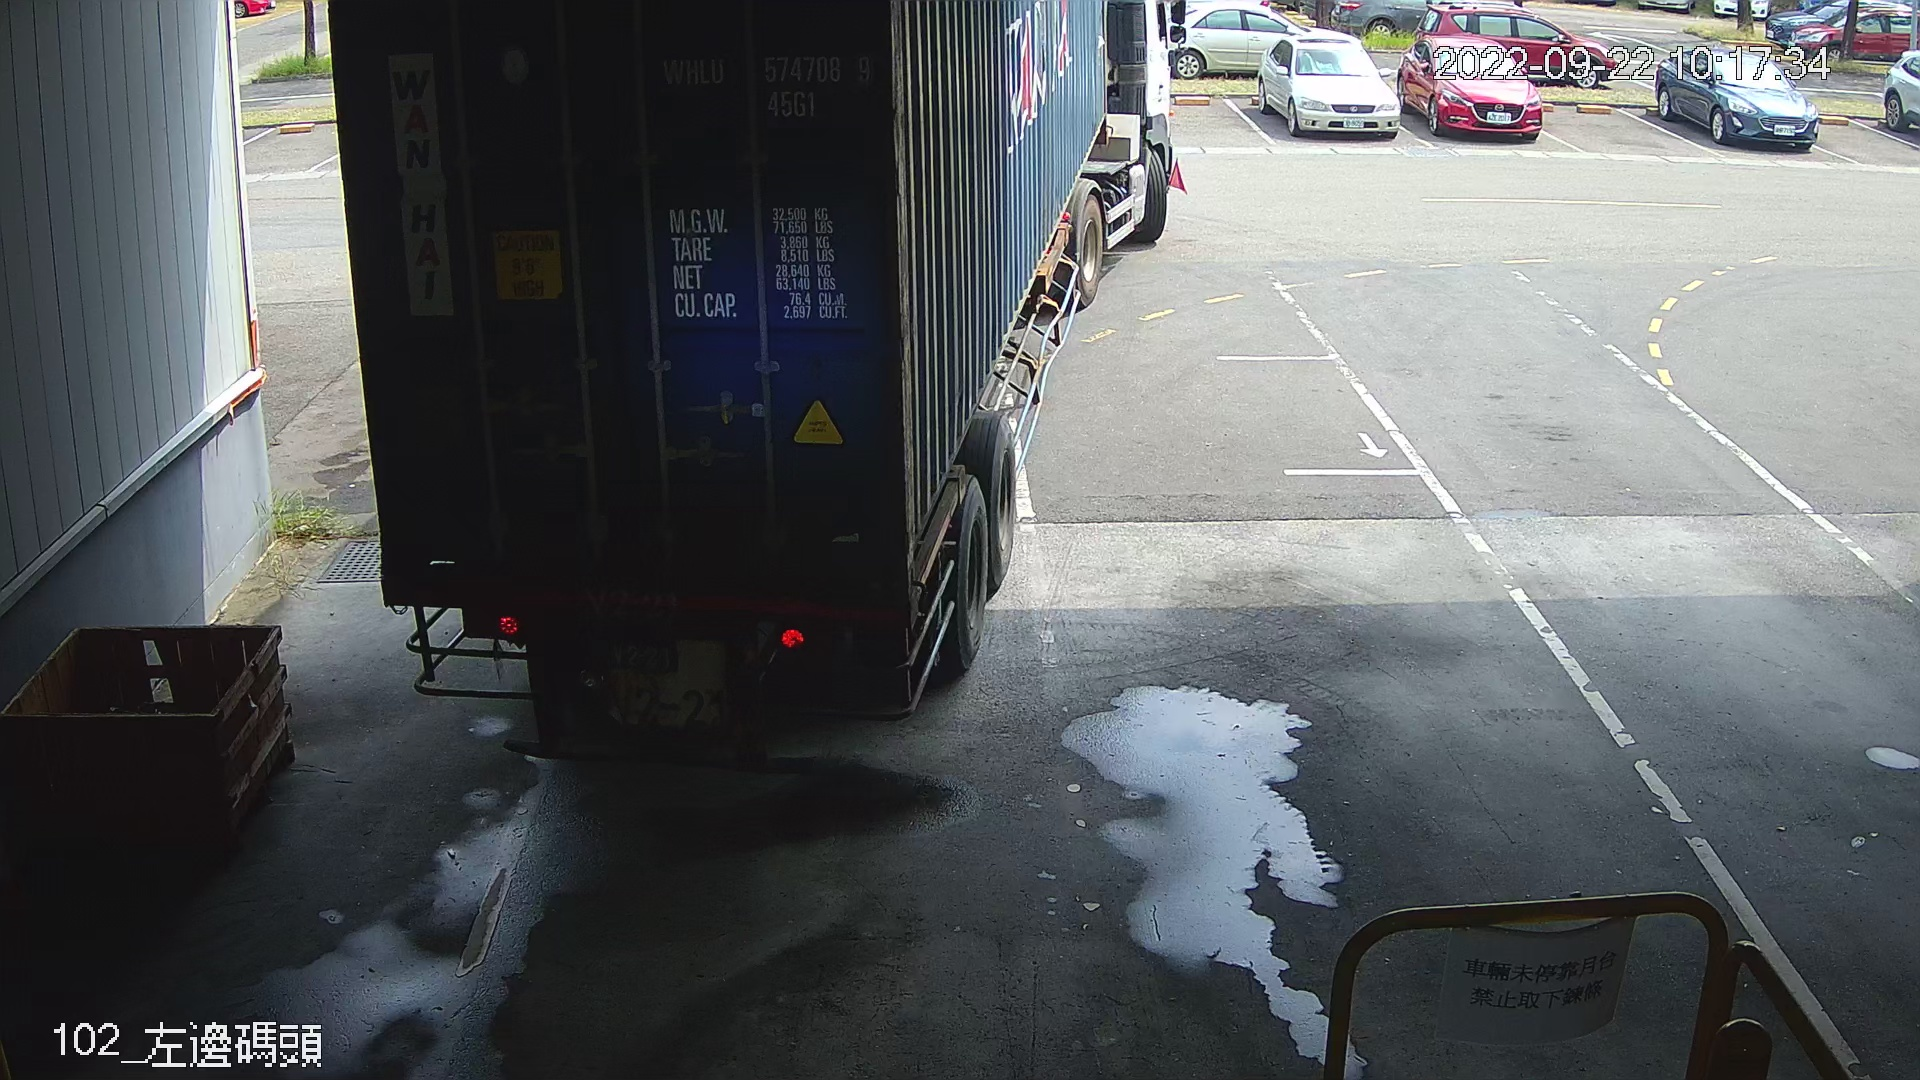container: (651, 47, 880, 127)
